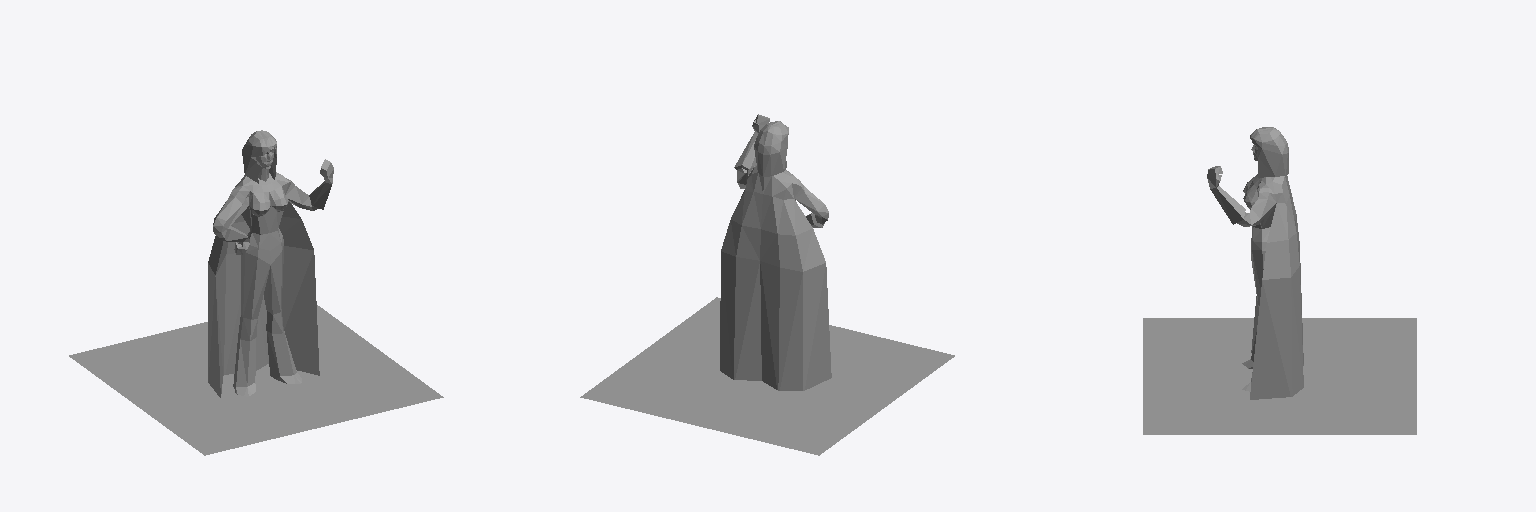
File: rththr.obj
The picture shows the model from 3 angles: view 1: azimuth 30°, elevation 25°; view 2: azimuth 150°, elevation 25°; view 3: azimuth 270°, elevation 25°; orthographic projection.
Parts seen in each view (by area): view 1: s4studio_mesh_0, s4studio_mesh_1; view 2: s4studio_mesh_0, s4studio_mesh_1; view 3: s4studio_mesh_0, s4studio_mesh_1.
Boxes of the visible parts, x1,y1,x2,y2 form: s4studio_mesh_0: [69, 305, 443, 455]; s4studio_mesh_1: [208, 130, 333, 397]; s4studio_mesh_0: [580, 297, 954, 455]; s4studio_mesh_1: [720, 114, 831, 390]; s4studio_mesh_0: [1143, 318, 1416, 434]; s4studio_mesh_1: [1207, 127, 1303, 399].
Size of the model in its own units: 0.1957 by 0.2002 by 0.1937.